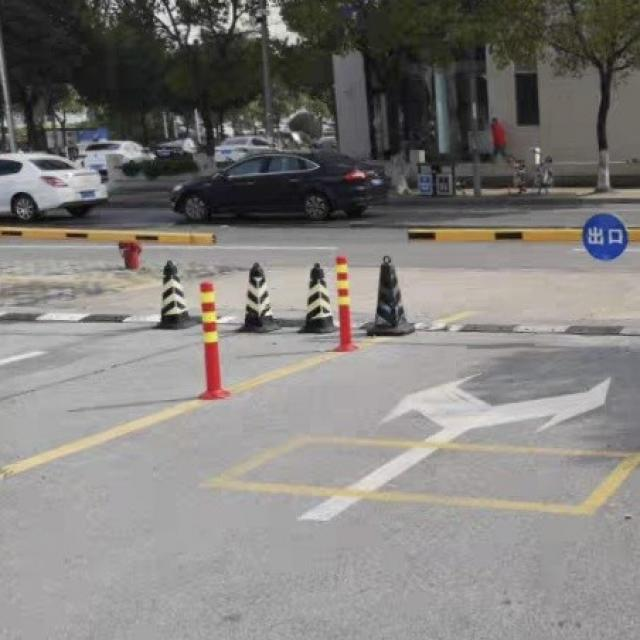ash bin: (413, 156, 456, 198)
car: (170, 146, 386, 221), (0, 148, 108, 220)
reflective_cone: (364, 252, 416, 334), (238, 259, 283, 332), (296, 259, 336, 334), (156, 258, 191, 328)
warning_column: (192, 278, 230, 397), (330, 252, 358, 352)
